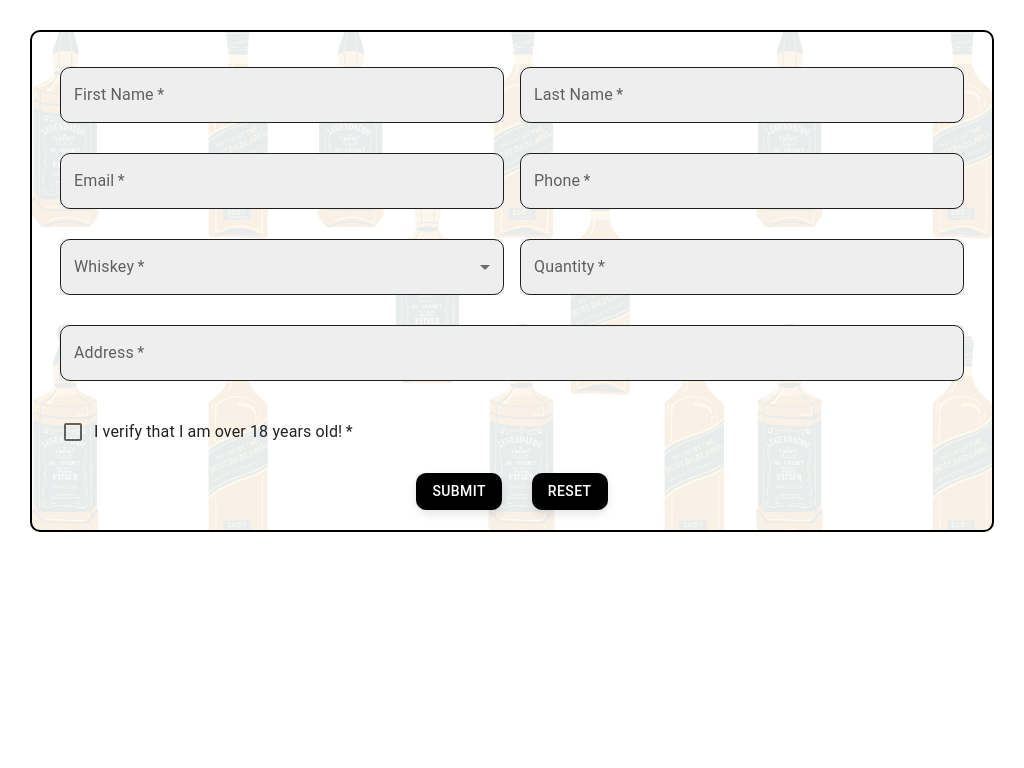
Test: Test whiskey purchase page verify age › goes to purchase page
Expected: the element with test id "first-name-input" is shown, [60,67,504,123]
Expected: the element with test id "last-name-input" is shown, [520,67,964,123]
Check the checkbox labelled "I verify that I am over 18 years old! *": (73, 432) [52,411,94,453]
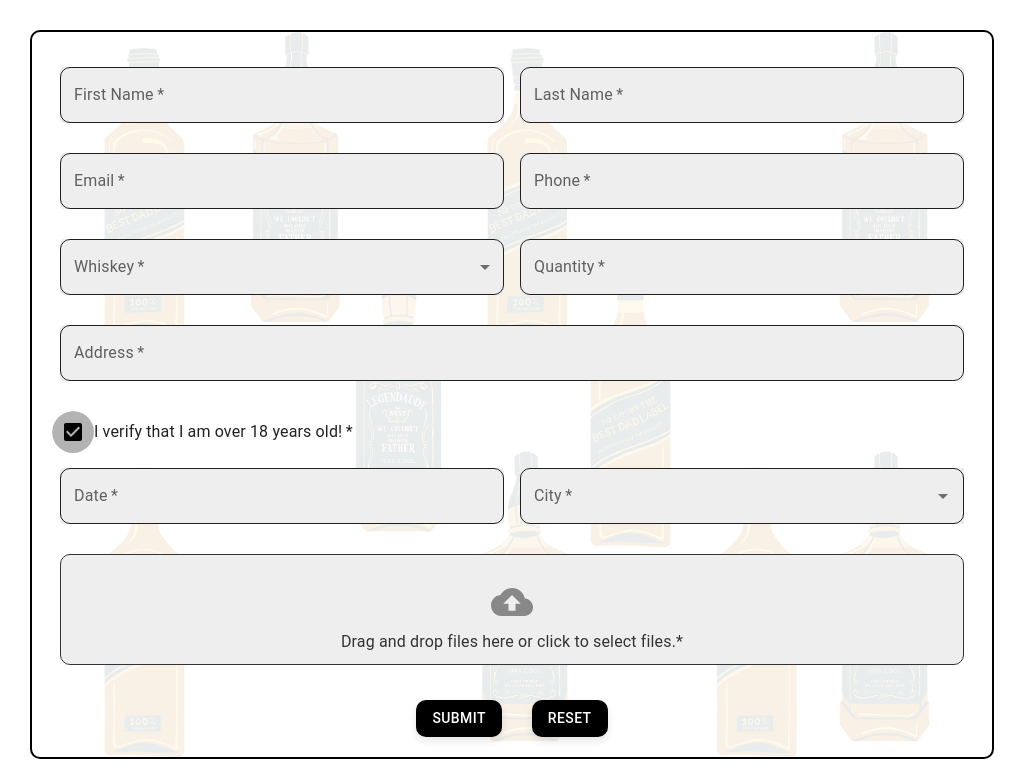
Now the element with test id "date-input" is shown, box [60,468,504,524]
Now the element with test id "city-input" is shown, box [520,453,964,524]
Now the element with test id "file-input" is shown, box [60,554,964,665]
